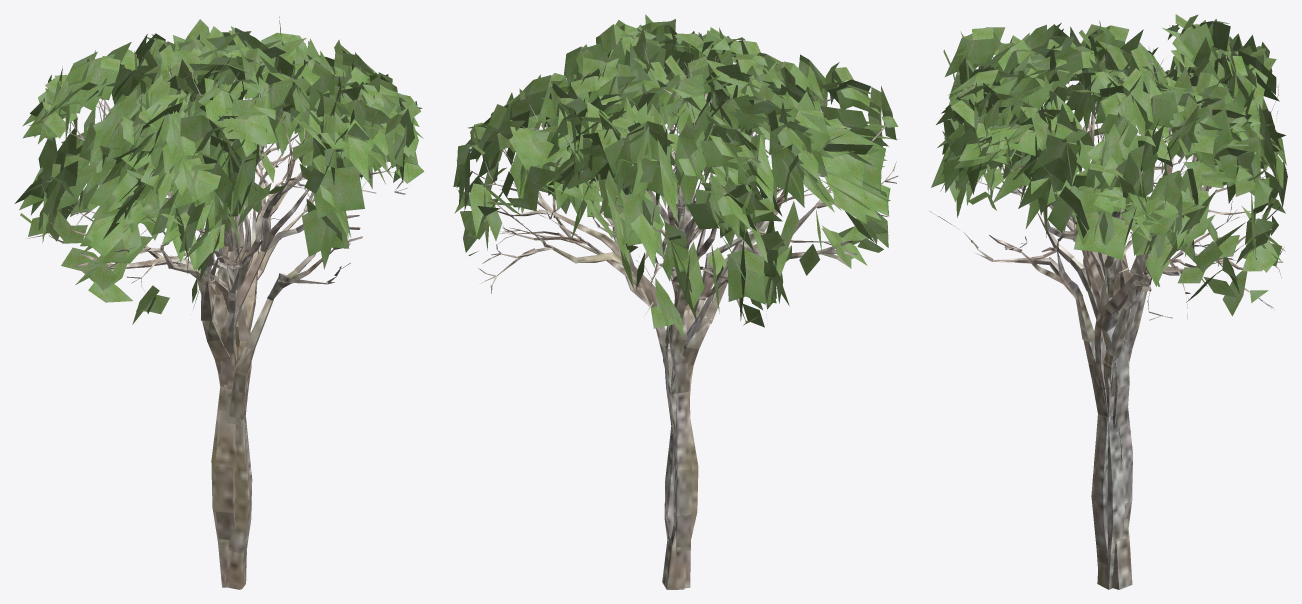
Rendered from tree_2.obj.
The picture shows the model from 3 angles, left to right: view 1: azimuth 30°, elevation 25°; view 2: azimuth 150°, elevation 25°; view 3: azimuth 270°, elevation 25°; orthographic projection. The views are drawn at different scales.
Parts seen in each view (by area): view 1: Gnarly_t; view 2: Gnarly_t; view 3: Gnarly_t.
Boxes of the visible parts, left/top/right/bottom form: Gnarly_t: left=14, top=16, right=424, bottom=589; Gnarly_t: left=453, top=14, right=898, bottom=589; Gnarly_t: left=929, top=14, right=1287, bottom=589.
Size of the model in its own units: 1.65 by 2.24 by 1.38.
Materials: 1 (1 with a texture image).
